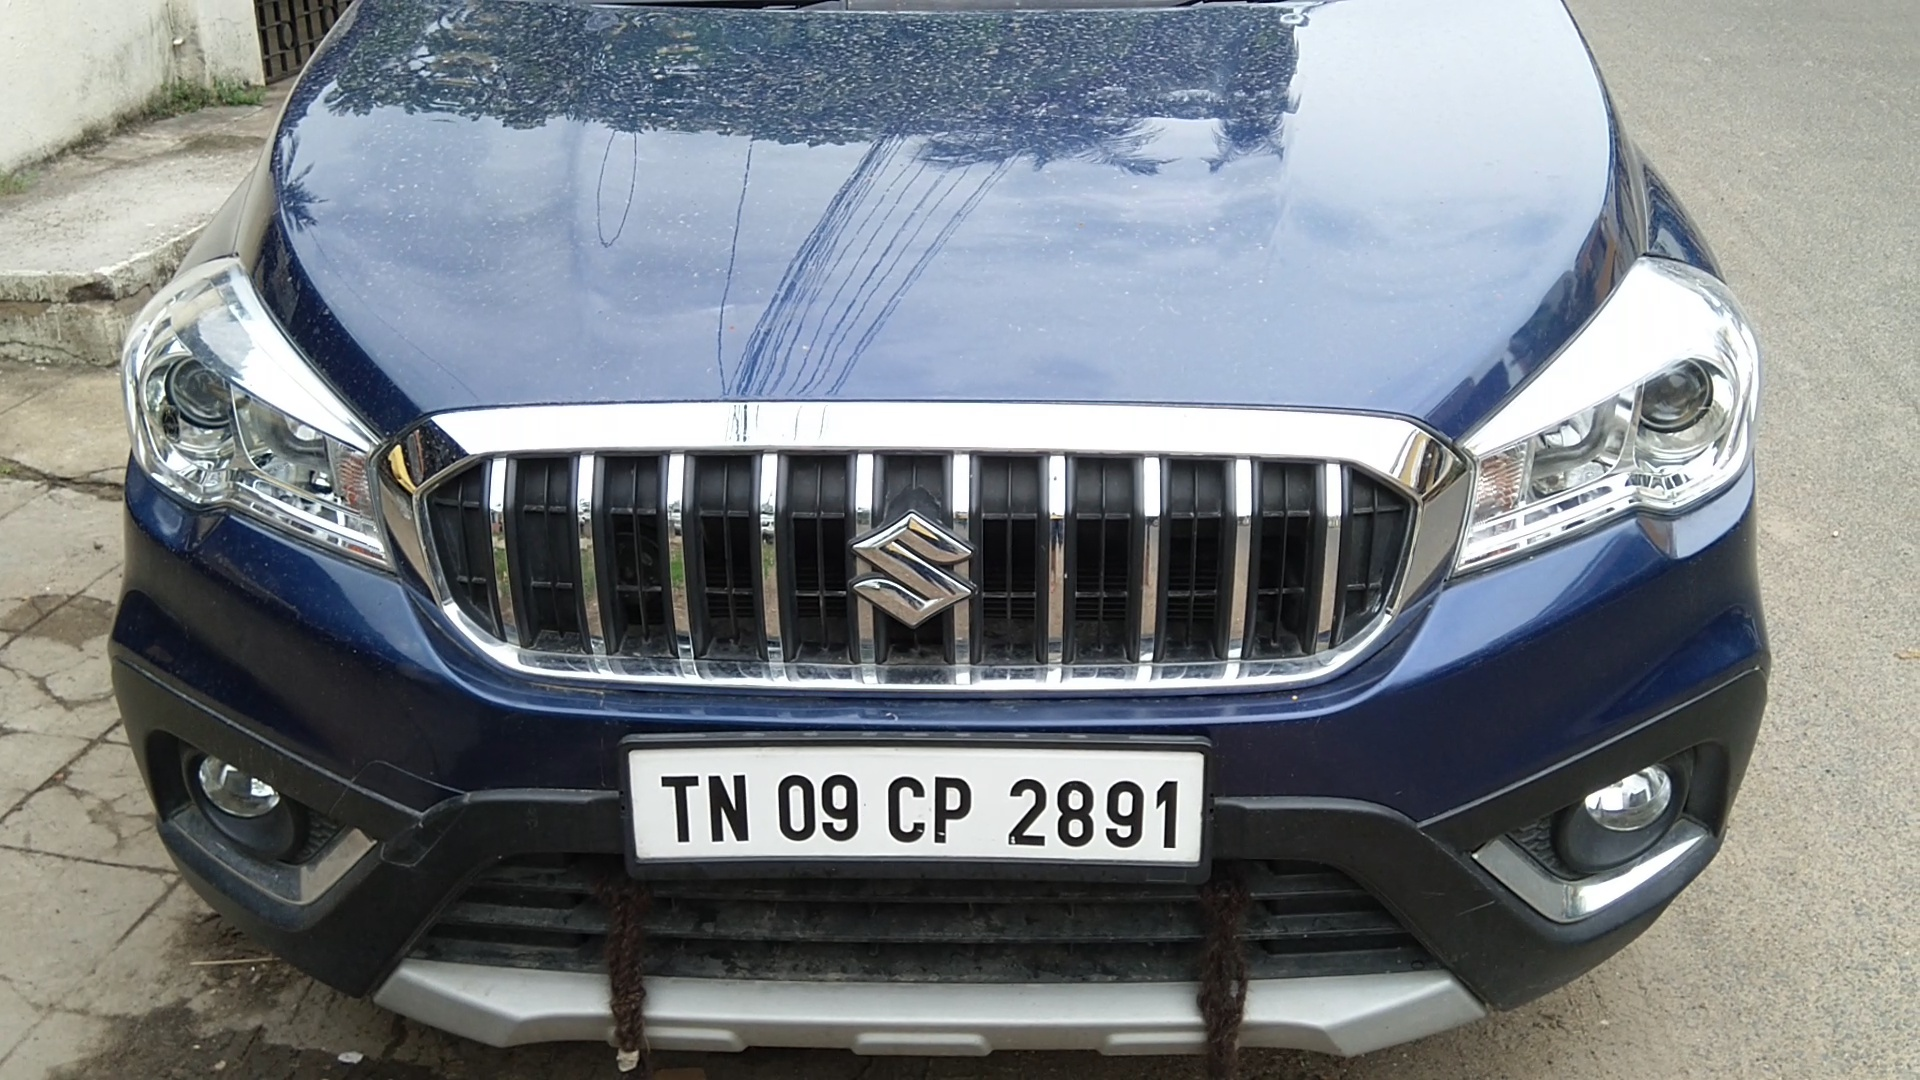front_grill: (397, 396, 1458, 737)
headlamp: (1466, 249, 1758, 582), (113, 240, 392, 587)
